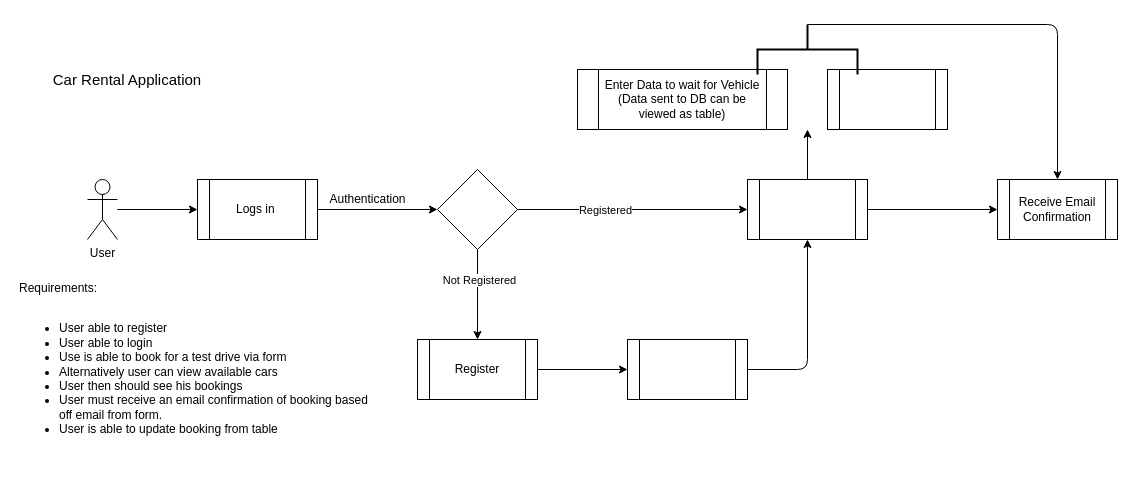
This 1135x477 diagram has some shape labels left out. Each missing label, with the box of its shape:
Book Test Drive: (746, 178, 868, 240)
Log in: (626, 338, 748, 400)
View available cars from DB: (826, 68, 948, 130)
